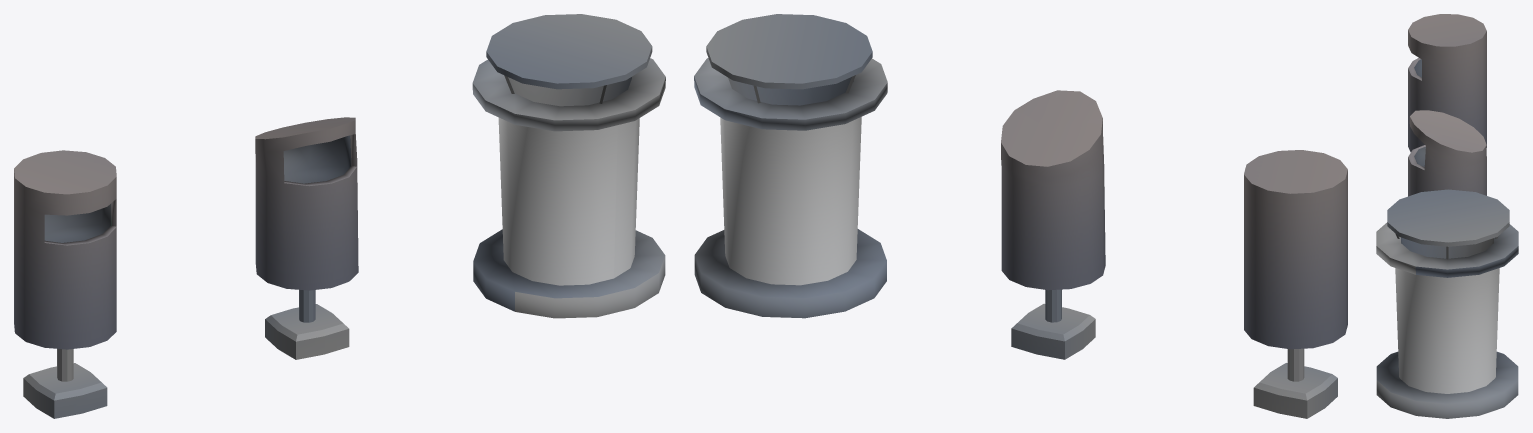
Rendered from roskakori.fbx.
3 views of the same model, side by side, from view 1: azimuth 30°, elevation 25°; view 2: azimuth 150°, elevation 25°; view 3: azimuth 270°, elevation 25° (orthographic). The views are drawn at different scales.
Visible parts, largest first — view 1: roskakori_c, roskakori_a, roskakori_b; view 2: roskakori_c, roskakori_a, roskakori_b; view 3: roskakori_c, roskakori_a, roskakori_b.
Part boxes in pixels (x1=…): roskakori_c: x1=472, y1=14, x2=665, y2=318; roskakori_a: x1=14, y1=150, x2=116, y2=418; roskakori_b: x1=255, y1=117, x2=358, y2=359; roskakori_c: x1=694, y1=14, x2=887, y2=318; roskakori_a: x1=1244, y1=150, x2=1347, y2=418; roskakori_b: x1=1001, y1=90, x2=1105, y2=359; roskakori_c: x1=1376, y1=189, x2=1518, y2=418; roskakori_a: x1=1408, y1=14, x2=1486, y2=152; roskakori_b: x1=1408, y1=110, x2=1486, y2=196.
Bounding box in the file's own units: 11.86 × 4.16 × 3.07.
